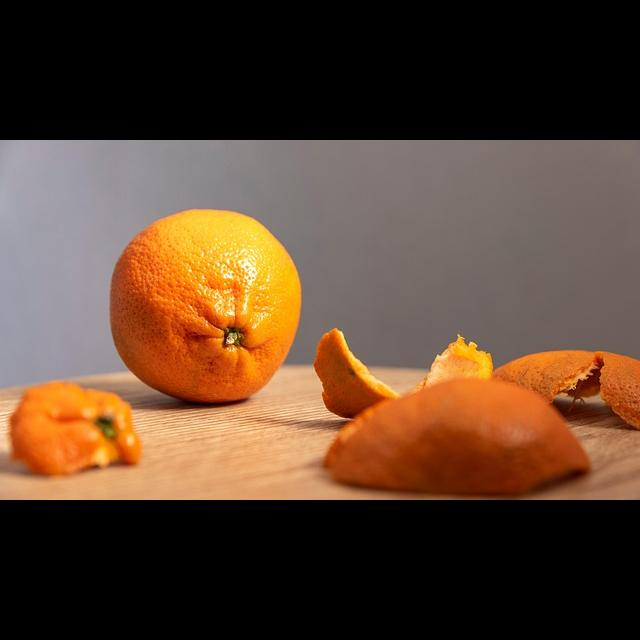orange: (94, 196, 318, 410)
